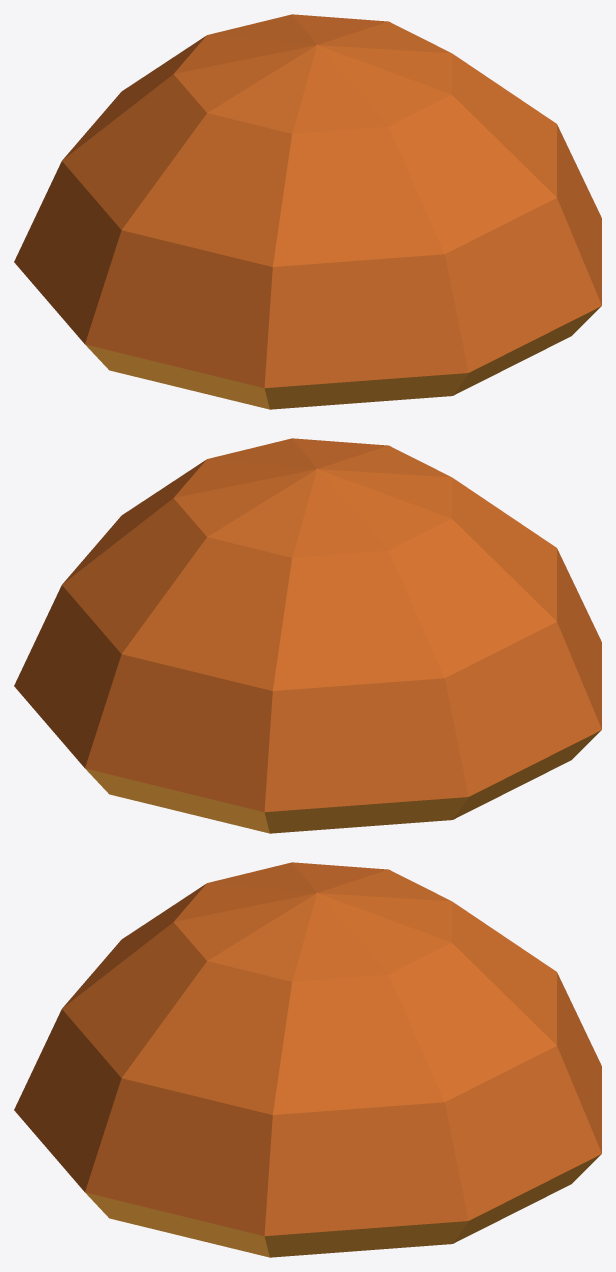
Rendered from rts.spitter.glb.
3 renders of one model, top to bottom at view 1: azimuth 30°, elevation 25°; view 2: azimuth 150°, elevation 25°; view 3: azimuth 270°, elevation 25°, orthographic.
Parts seen in each view (by area): view 1: rts.spitter; view 2: rts.spitter; view 3: rts.spitter.
Boxes of the visible parts, x1,y1,x2,y2 form: rts.spitter: (14, 14, 601, 409); rts.spitter: (14, 438, 601, 833); rts.spitter: (14, 862, 601, 1257).
Size of the model in its own units: 1.87 by 0.87 by 1.84.
